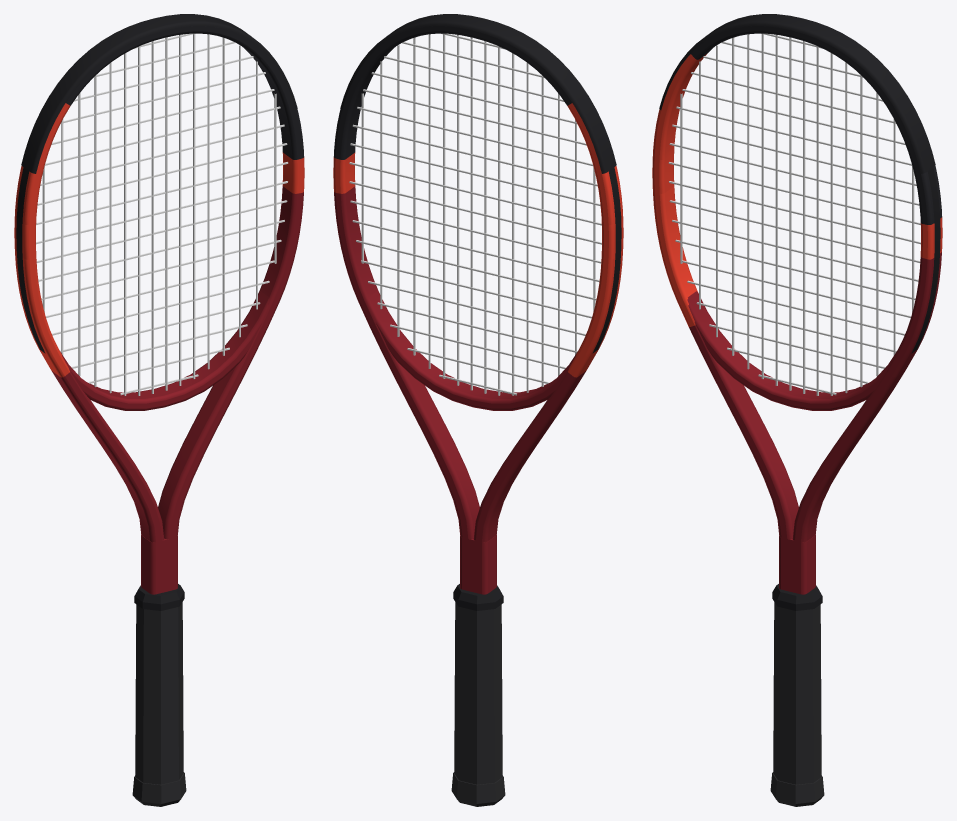
The model's file is dunlop-cx-200-tour-2024.glb.
3 renders of one model, left to right at view 1: azimuth 30°, elevation 25°; view 2: azimuth 150°, elevation 25°; view 3: azimuth 330°, elevation 25°, orthographic.
Parts seen in each view (by area): view 1: frame, strings_mains, strings_crosses, grip, bumper, butt_cap, grommets, collar; view 2: frame, strings_mains, strings_crosses, grip, bumper, butt_cap, grommets, collar; view 3: frame, strings_mains, strings_crosses, grip, bumper, butt_cap, grommets, collar.
Boxes of the visible parts, x1,y1,x2,y2 form: frame: [14, 26, 304, 594]; strings_mains: [42, 33, 276, 395]; strings_crosses: [36, 33, 288, 395]; grip: [135, 602, 183, 784]; bumper: [21, 14, 297, 173]; butt_cap: [132, 772, 186, 806]; grommets: [16, 167, 45, 353]; collar: [134, 584, 184, 610]; frame: [333, 26, 623, 594]; strings_mains: [361, 34, 595, 395]; strings_crosses: [349, 33, 601, 395]; grip: [454, 602, 502, 784]; bumper: [340, 14, 616, 173]; butt_cap: [451, 772, 505, 806]; grommets: [592, 167, 621, 353]; collar: [453, 584, 503, 610]; frame: [652, 26, 942, 594]; strings_mains: [680, 33, 914, 395]; strings_crosses: [668, 33, 920, 395]; grip: [773, 602, 821, 784]; bumper: [659, 14, 935, 173]; butt_cap: [770, 772, 824, 806]; grommets: [911, 167, 940, 353]; collar: [772, 584, 822, 610].
Size of the model in its own units: 0.2596 by 0.6861 by 0.0377.
